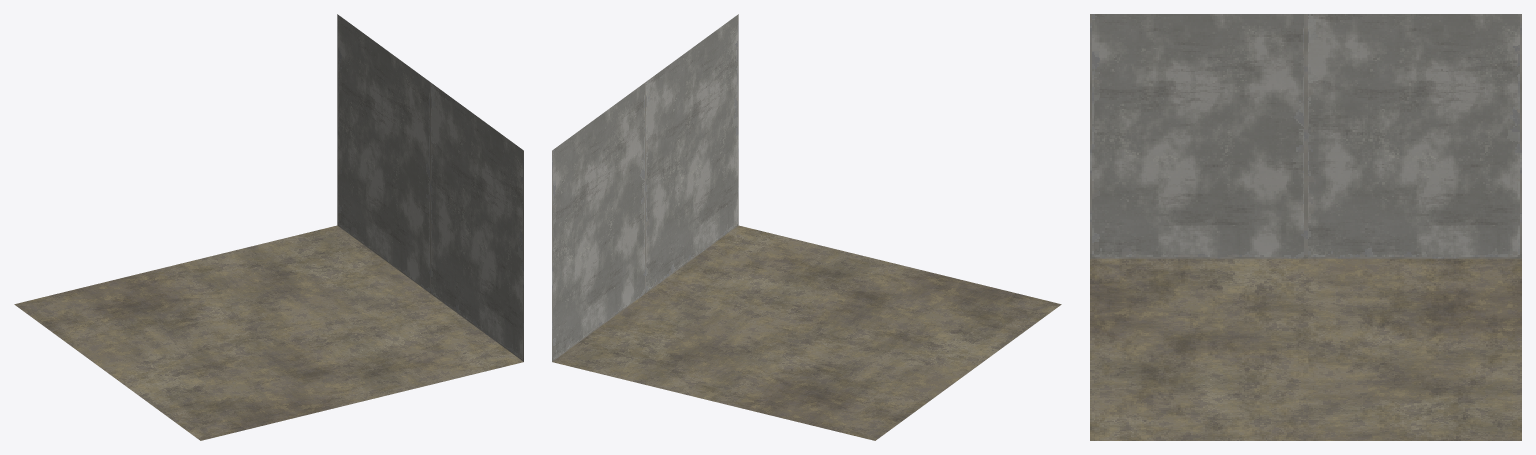
File: korytarz.glb
3 views of the same model, side by side, from view 1: azimuth 30°, elevation 25°; view 2: azimuth 150°, elevation 25°; view 3: azimuth 270°, elevation 25° (orthographic). The views are drawn at different scales.
Parts seen in each view (by area): view 1: ceiling; view 2: ceiling; view 3: ceiling.
Part boxes in pixels (x1,y1,x2,y2): ceiling: [14, 14, 523, 440]; ceiling: [552, 14, 1061, 440]; ceiling: [1090, 14, 1521, 440].
Size of the model in its own units: 4 by 2.5 by 4.
Materials: 3 (3 with a texture image).
